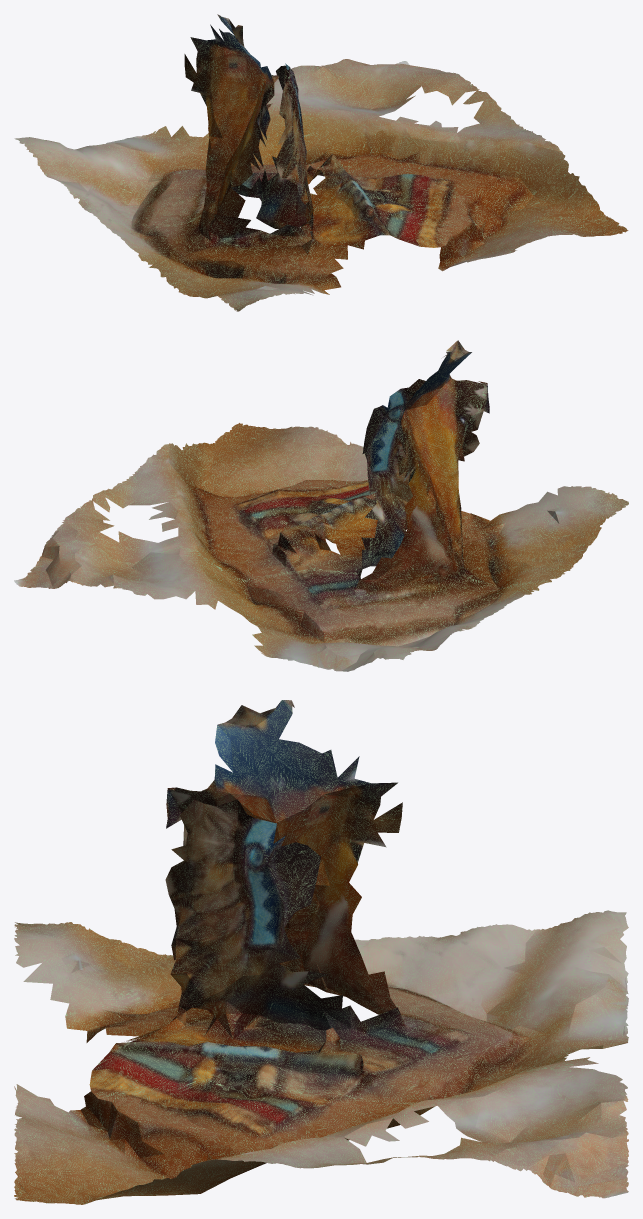
3 renders of one model, top to bottom at view 1: azimuth 30°, elevation 25°; view 2: azimuth 150°, elevation 25°; view 3: azimuth 270°, elevation 25°, orthographic. The views are drawn at different scales.
Visible parts, largest first — view 1: SketchUp; view 2: SketchUp; view 3: SketchUp.
Part boxes in pixels (x1=…): SketchUp: x1=14, y1=14, x2=628, y2=311; SketchUp: x1=14, y1=340, x2=628, y2=671; SketchUp: x1=14, y1=700, x2=628, y2=1204.
Size of the model in its own units: 26 by 26 by 15.41.
2 materials, 1 textured.
